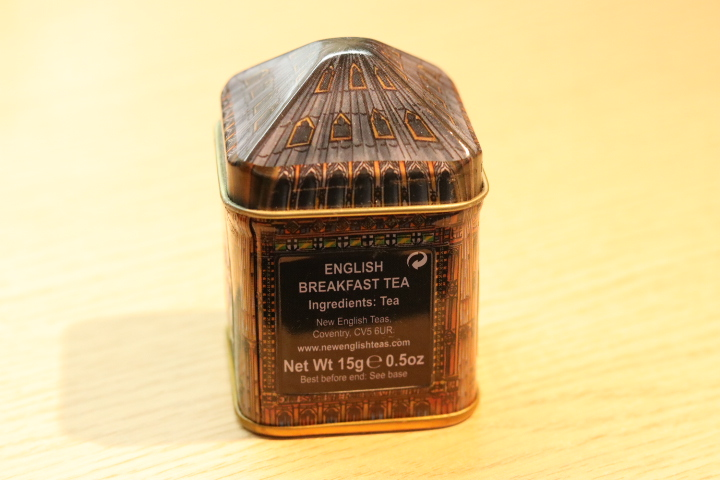Big Ben: (195, 18, 507, 449)
